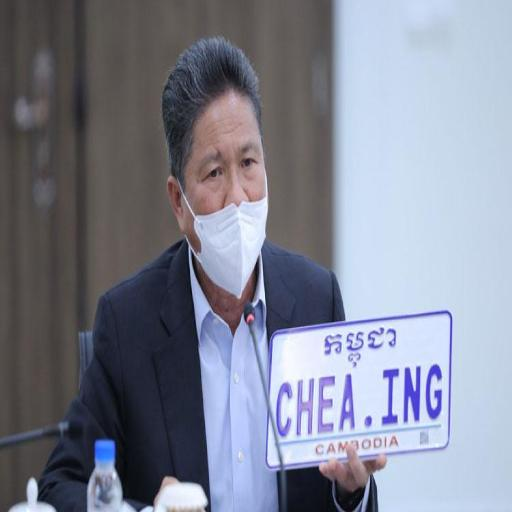Plate Number: (266, 314, 452, 470)
